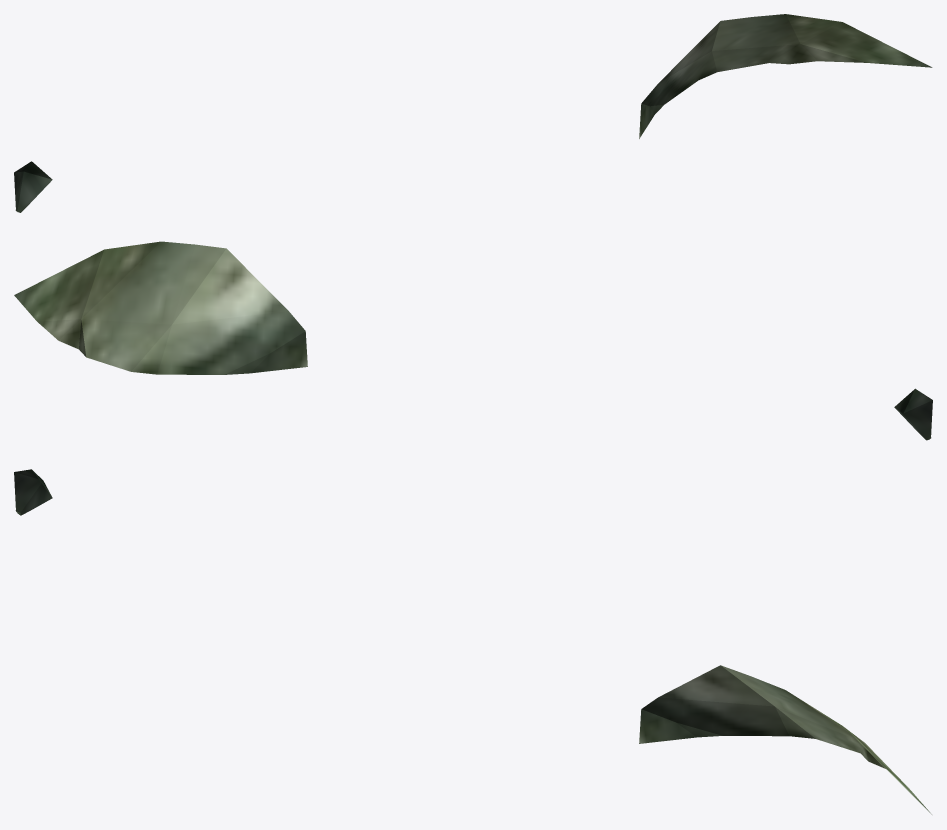
The picture shows the model from 3 angles, top to bottom: view 1: azimuth 30°, elevation 25°; view 2: azimuth 150°, elevation 25°; view 3: azimuth 330°, elevation 25°; orthographic projection.
Size of the model in its own units: 30.83 by 4.05 by 2.86.
1 material, 1 textured.
